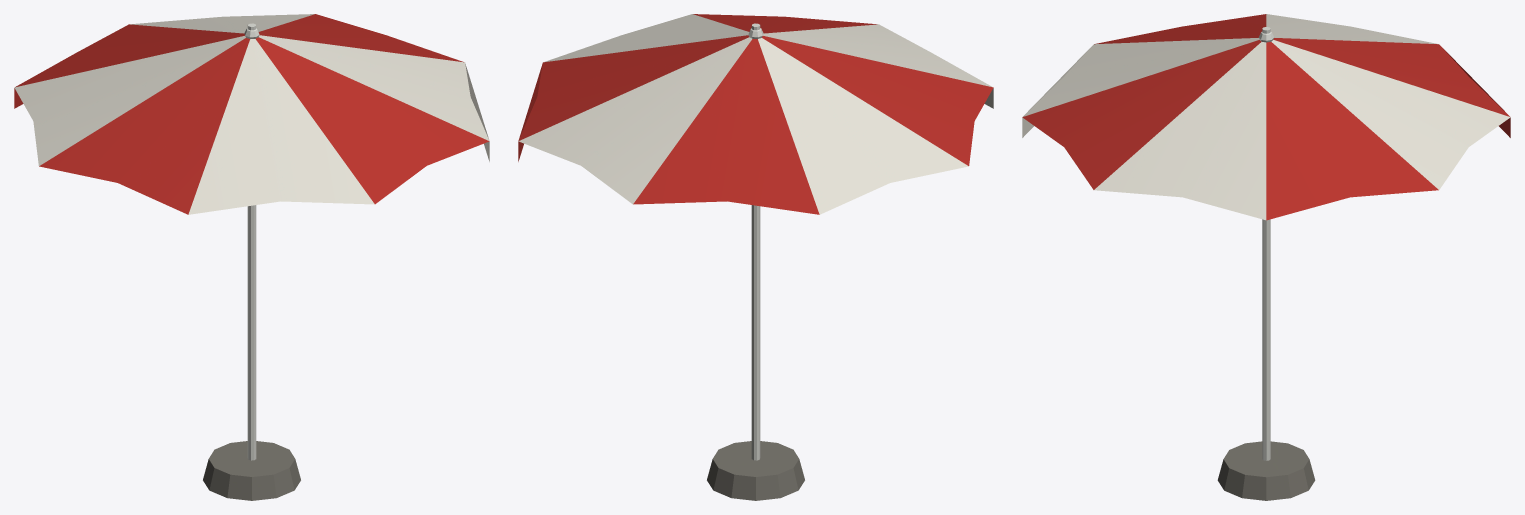
Rendered from umbrella_red_white.glb.
The picture shows the model from 3 angles, left to right: view 1: azimuth 30°, elevation 25°; view 2: azimuth 150°, elevation 25°; view 3: azimuth 270°, elevation 25°; orthographic projection.
Parts seen in each view (by area): view 1: umbrella_red_white; view 2: umbrella_red_white; view 3: umbrella_red_white.
Boxes of the visible parts, x1=… form: umbrella_red_white: x1=14, y1=14, x2=489, y2=500; umbrella_red_white: x1=518, y1=14, x2=993, y2=500; umbrella_red_white: x1=1022, y1=14, x2=1510, y2=500.
Size of the model in its own units: 2.5 by 2.55 by 2.5.
Materials: 1 (1 with a texture image).
